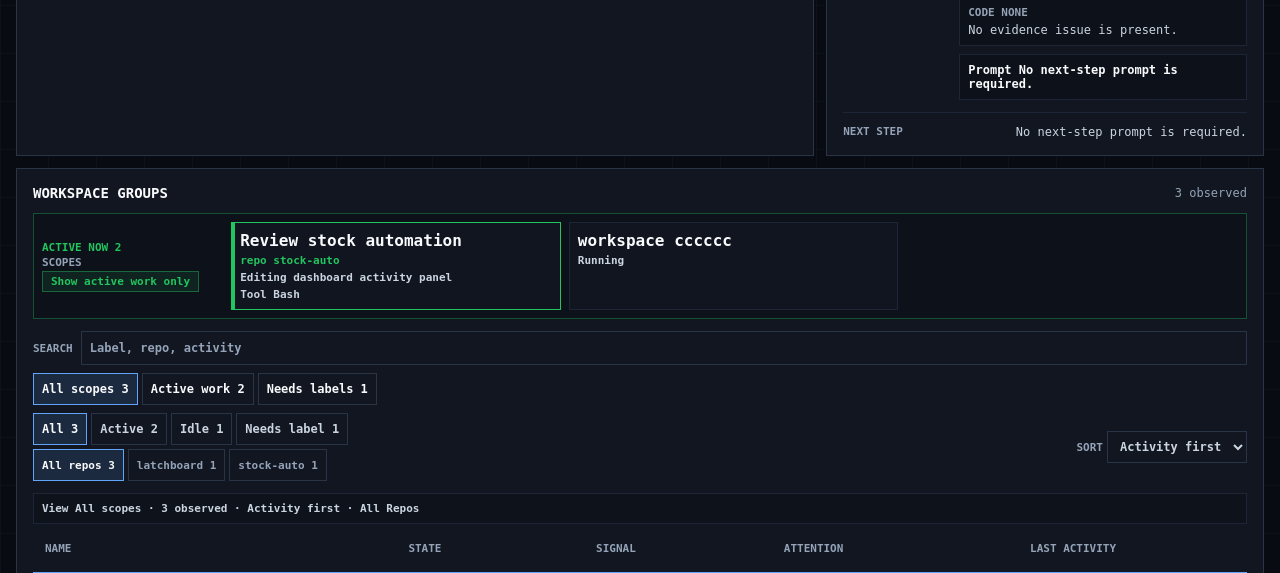
Test: AppView › uses active now to switch into the active-only workspace view
(page scrolled)
In the search field named "Search workspace groups": (664, 348) [81,331,1247,365], type "polish"
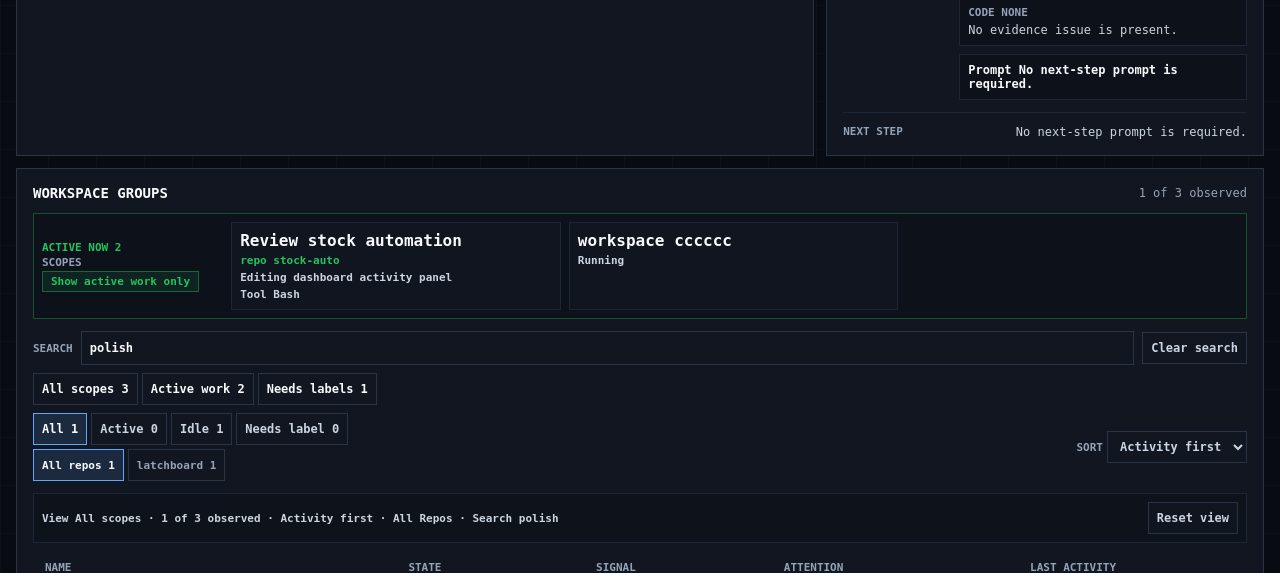
Select "Repo" in the dropdown named "Sort workspace groups": (1177, 447) [1107,431,1247,463]
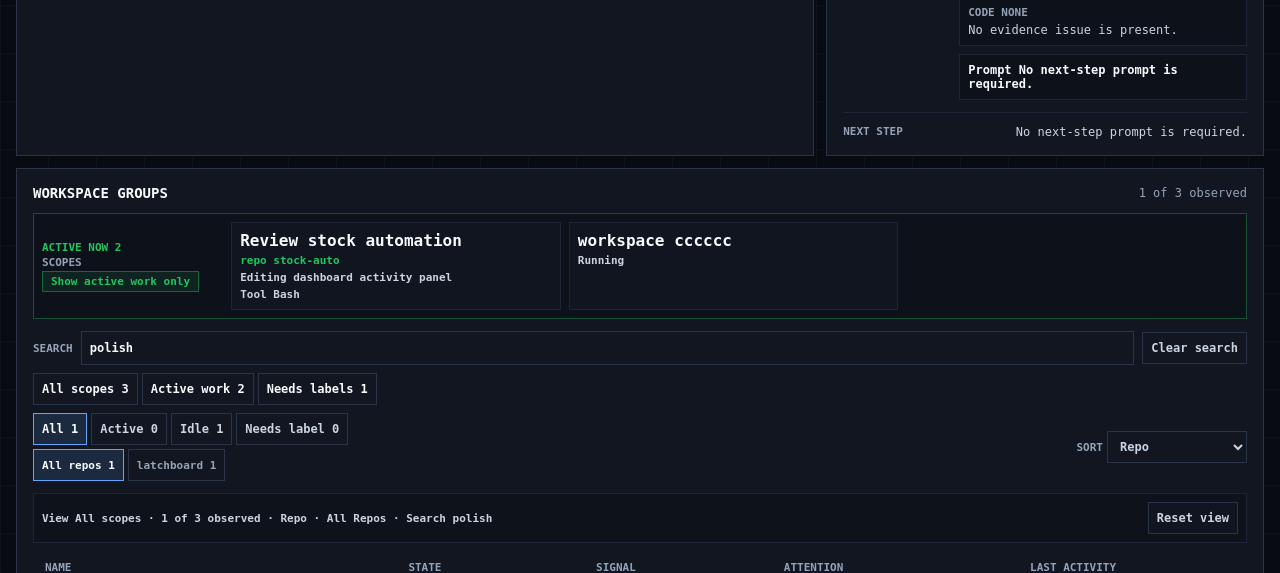
Click the button "latchboard 1": (177, 465) [128,449,225,481]
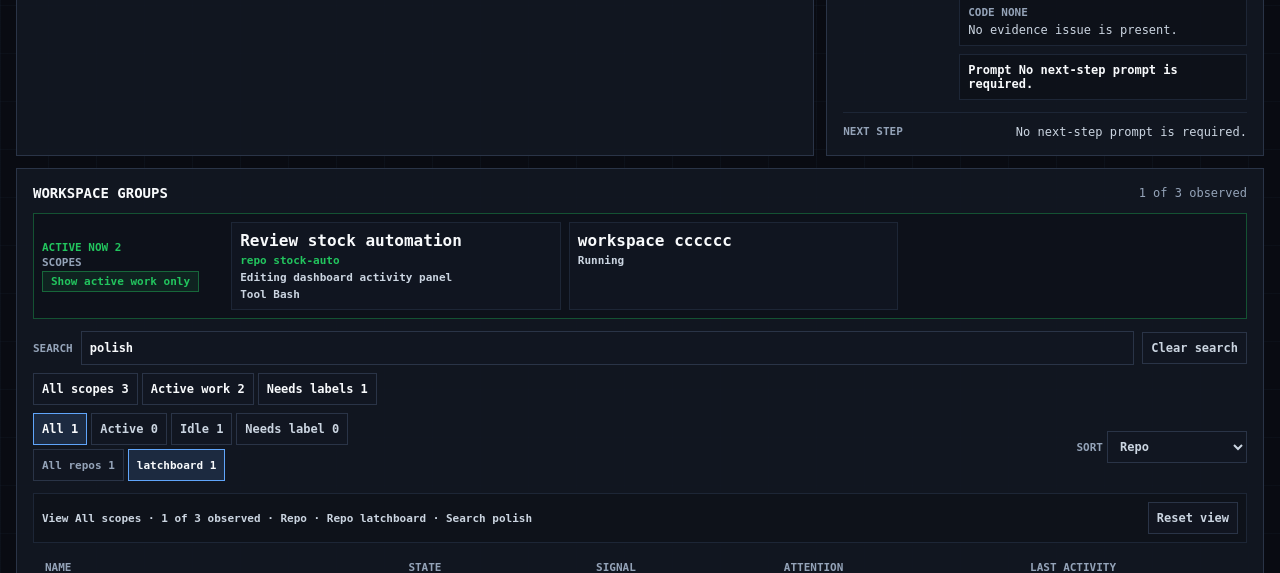
Now the text "1 of 3 observed" is shown, box [1139,186,1247,200]
Click the button "Show active work only": (121, 281) [42,270,199,292]
(page scrolled)
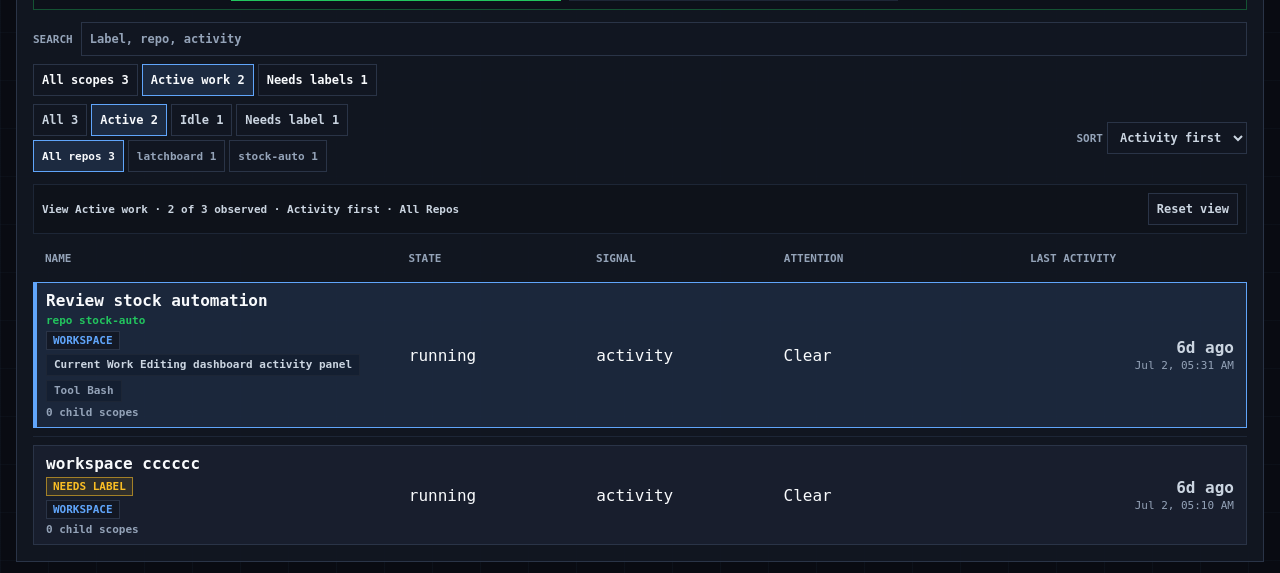
Now the search field named "Search workspace groups" is empty, box [81,22,1247,56]
Now the element named "Workspace view summary" shows "View Active work", box [42,202,459,216]
Now the list named "Workspace groups" shows "Review stock automation", box [33,282,1247,428]
